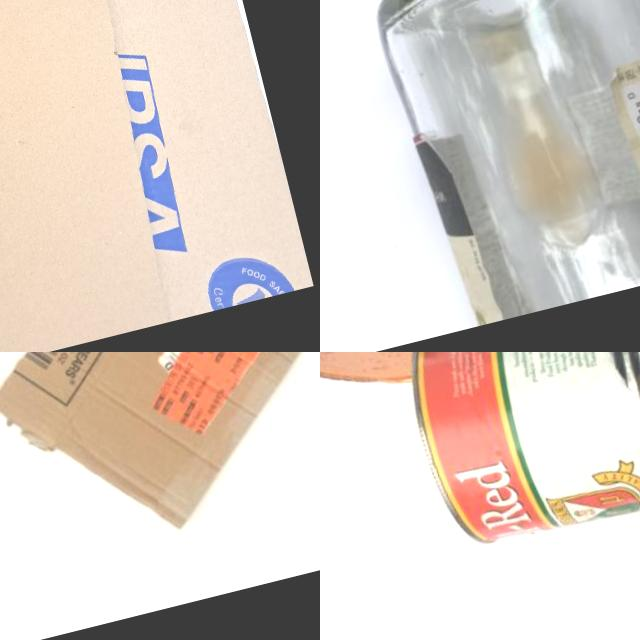garrafa de vidro: (359, 0, 640, 331)
lata: (320, 352, 640, 602)
papelão: (0, 0, 313, 352), (0, 352, 320, 567)
